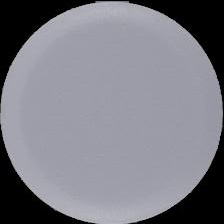50268-085: (0, 0, 224, 224)
